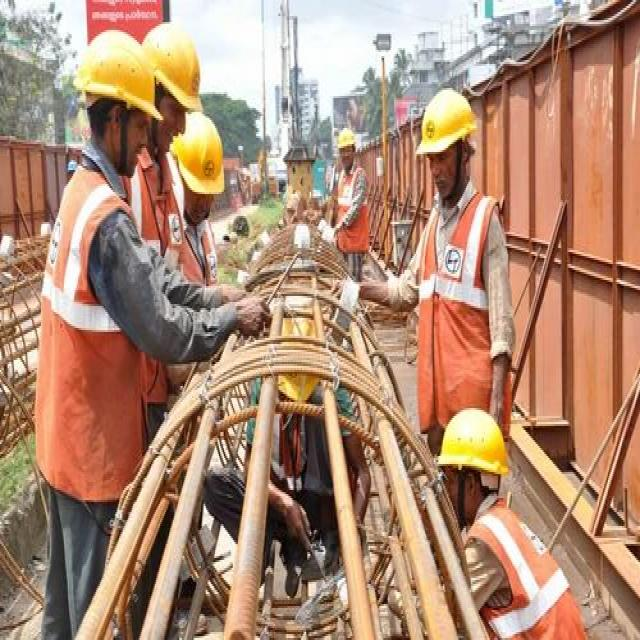Reflective-Jacket: (32, 166, 143, 500), (411, 192, 508, 422), (462, 500, 588, 640), (334, 164, 371, 254)
Safety-Helmet: (72, 28, 164, 126), (433, 402, 513, 484), (142, 18, 206, 114), (415, 82, 480, 160), (172, 112, 226, 196), (335, 124, 357, 152)
